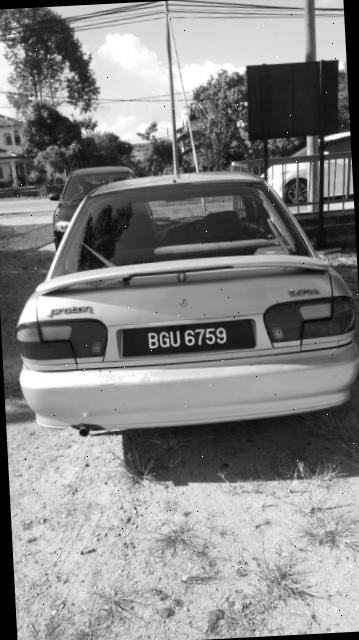License_Plate: (126, 318, 250, 355)
car: (3, 157, 359, 452)
